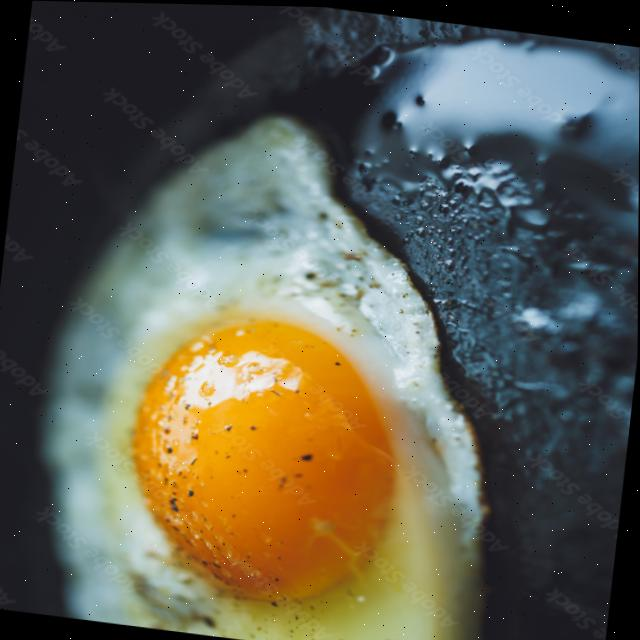Egg: (44, 114, 486, 640)
